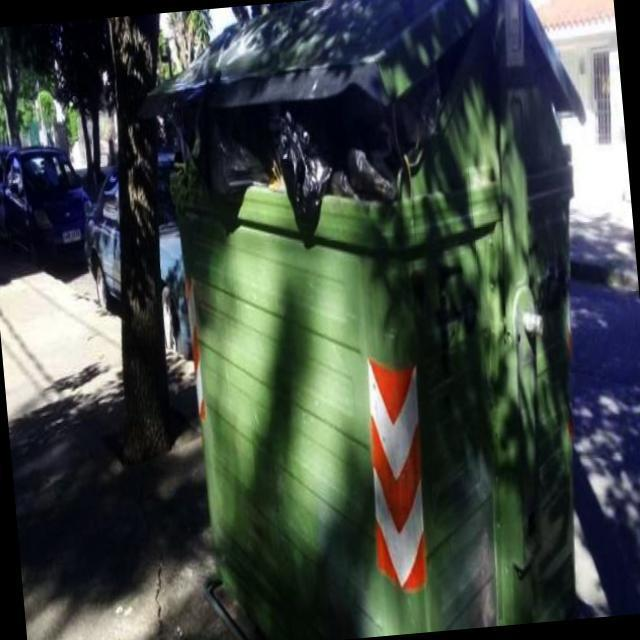garbage: (154, 85, 428, 210)
